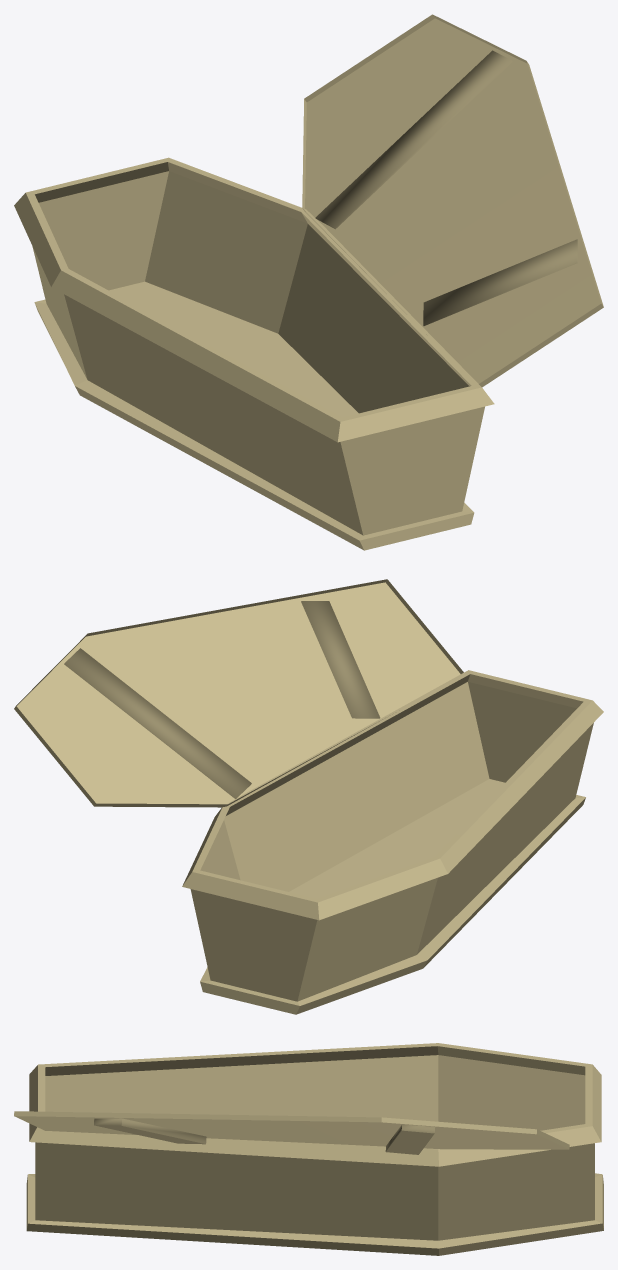
File: Coffin_1_2_open.fbx
The picture shows the model from 3 angles, top to bottom: view 1: azimuth 30°, elevation 25°; view 2: azimuth 150°, elevation 25°; view 3: azimuth 270°, elevation 25°; orthographic projection. The views are drawn at different scales.
Parts seen in each view (by area): view 1: Coffin_1_2; view 2: Coffin_1_2; view 3: Coffin_1_2.
Part boxes in pixels (box(x1,y1,x2,y2)): Coffin_1_2: box(14, 14, 603, 550); Coffin_1_2: box(14, 579, 603, 1014); Coffin_1_2: box(14, 1043, 603, 1255).
Bounding box in the file's own units: 178 × 98.1 × 231.
